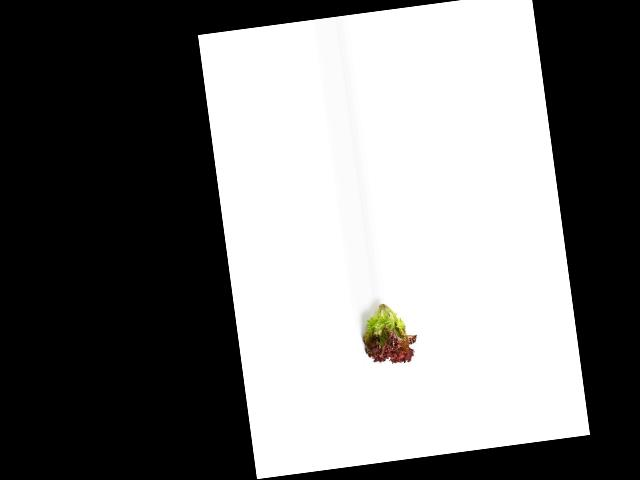lettuce: (356, 292, 418, 371)
